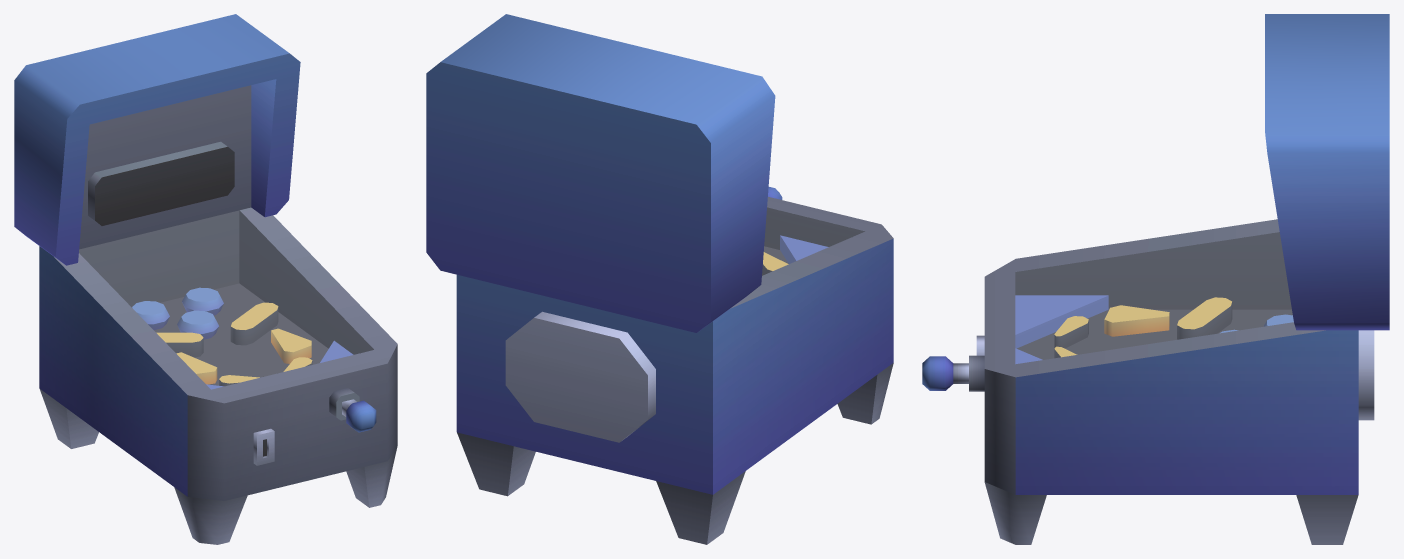
The model's file is arcade.pinball.glb.
The picture shows the model from 3 angles, left to right: view 1: azimuth 30°, elevation 25°; view 2: azimuth 150°, elevation 25°; view 3: azimuth 270°, elevation 25°; orthographic projection. The views are drawn at different scales.
Parts seen in each view (by area): view 1: pinball, (%ignore); view 2: pinball, (%ignore); view 3: pinball, (%ignore).
Boxes of the visible parts, x1,y1,x2,y2 form: pinball: (14,14,397,544); (%ignore): (79,210,373,389); pinball: (426,14,893,544); (%ignore): (762,207,864,275); pinball: (922,14,1389,544); (%ignore): (1015,232,1293,363).
Size of the model in its own units: 1.24 by 1.84 by 1.86.
2 materials, 1 textured.
